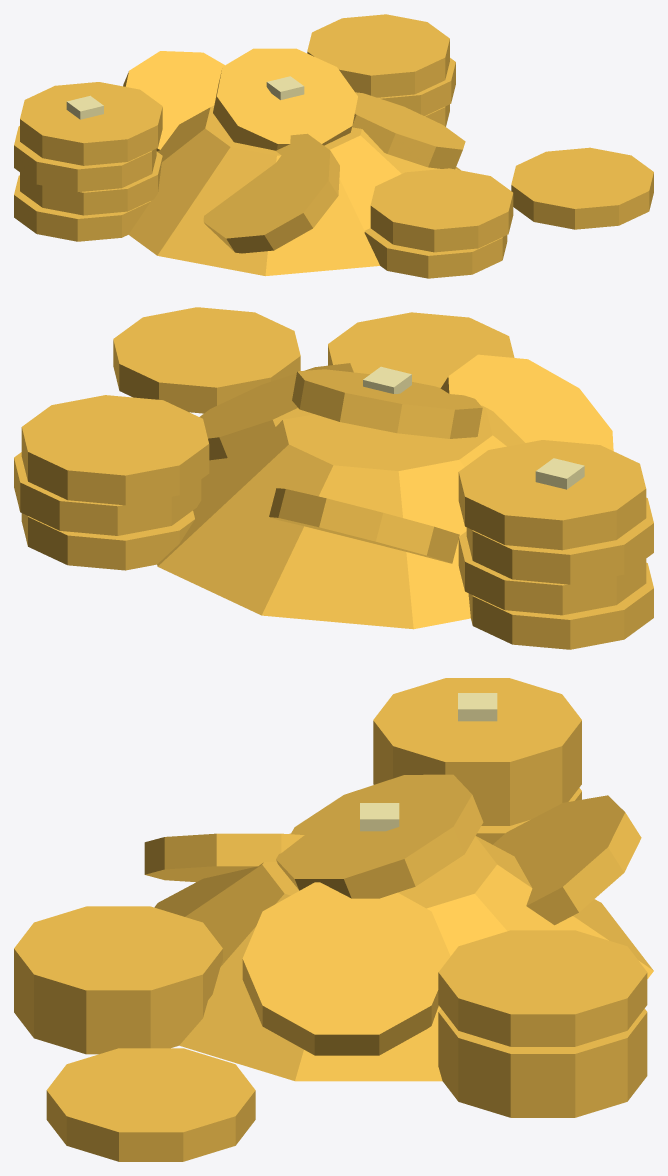
File: CatCafe_Prop_TipPile.glb
3 views of the same model, one above another, from view 1: azimuth 30°, elevation 25°; view 2: azimuth 150°, elevation 25°; view 3: azimuth 270°, elevation 25° (orthographic). The views are drawn at different scales.
Visible parts, largest first — view 1: CatCafe_Prop_TipPile; view 2: CatCafe_Prop_TipPile; view 3: CatCafe_Prop_TipPile.
Boxes of the visible parts, left/top/right/bottom form: CatCafe_Prop_TipPile: left=14, top=14, right=653, bottom=278; CatCafe_Prop_TipPile: left=14, top=307, right=653, bottom=649; CatCafe_Prop_TipPile: left=14, top=678, right=653, bottom=1161.
Bounding box in the file's own units: 1.27 × 0.2982 × 0.98.
Materials: 1 (1 with a texture image).
